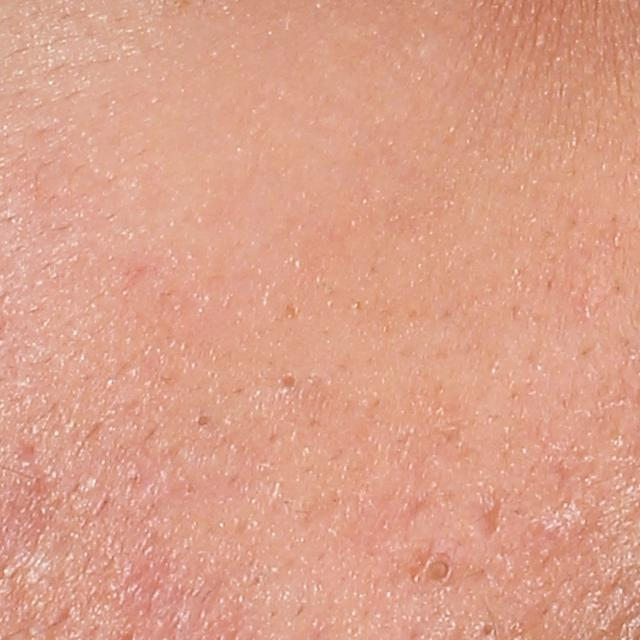atrophic_scar: (479, 487, 599, 621), (465, 491, 508, 548)
comedo: (421, 557, 463, 586), (274, 370, 301, 398), (476, 616, 500, 640), (192, 412, 211, 428)
